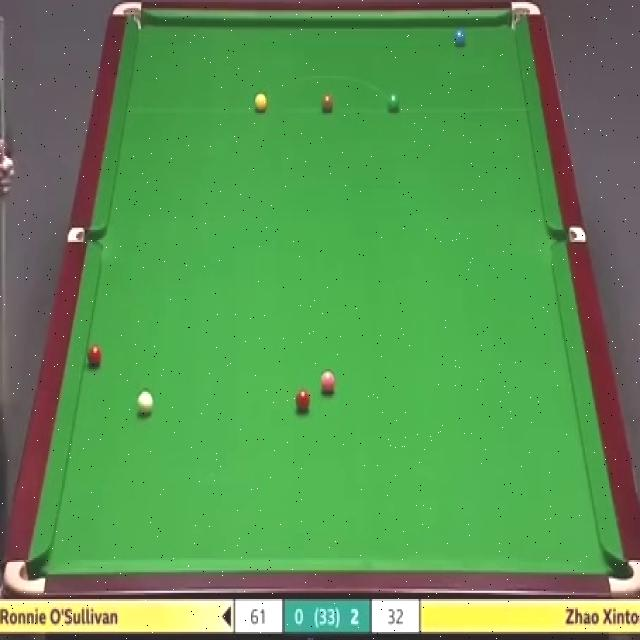blue-ball: (452, 28, 468, 48)
brown-ball: (320, 95, 334, 112)
green-ball: (387, 90, 401, 114)
pink-ball: (320, 370, 334, 394)
red-ball: (87, 344, 103, 367), (295, 388, 310, 411)
white-ball: (136, 389, 153, 416)
yellow-ball: (253, 91, 268, 112)
